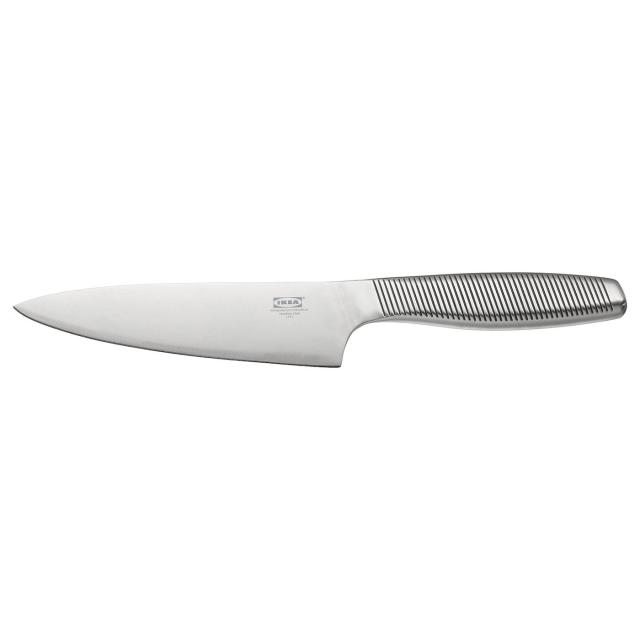weapon: (13, 266, 638, 370)
